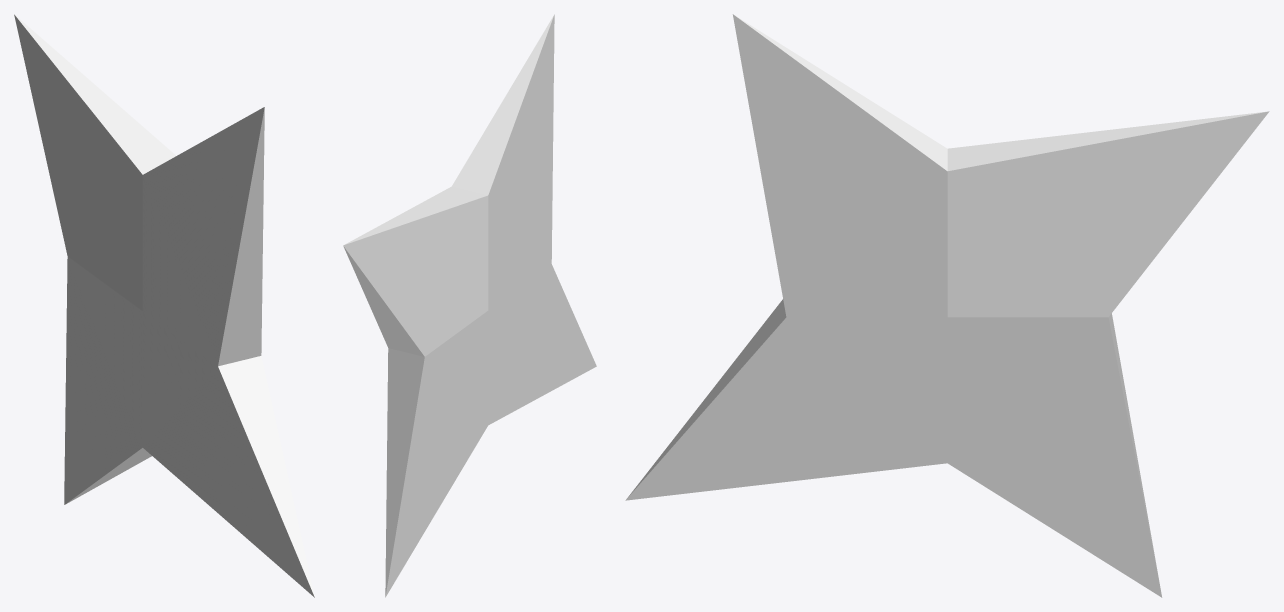
Rendered from shuriken.gltf.
3 renders of one model, left to right at view 1: azimuth 30°, elevation 25°; view 2: azimuth 150°, elevation 25°; view 3: azimuth 270°, elevation 25°, orthographic. The views are drawn at different scales.
Visible parts, largest first — view 1: mesh (×4); view 2: mesh (×4); view 3: mesh (×4).
Part boxes in pixels (x1,y1,x2,y2): mesh (×4): [14, 14, 314, 597]; mesh (×4): [343, 14, 596, 597]; mesh (×4): [625, 14, 1269, 597].
Bounding box in the file's own units: 0.0312 × 0.375 × 0.375.
1 material, 1 textured.
